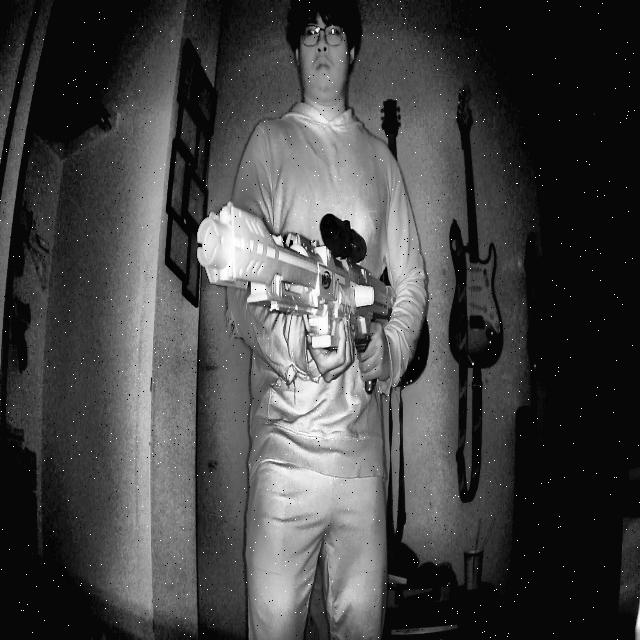Nerf_Blaster: (185, 171, 408, 435)
